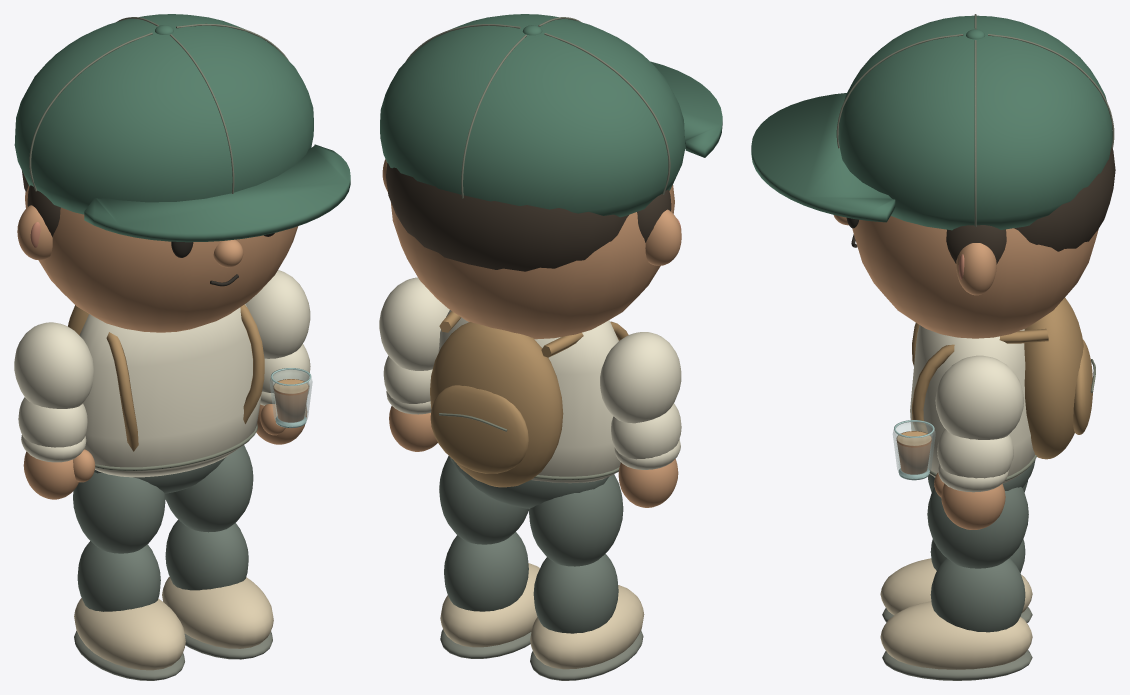
File: cafe-walker.glb
The picture shows the model from 3 angles, left to right: view 1: azimuth 30°, elevation 25°; view 2: azimuth 150°, elevation 25°; view 3: azimuth 270°, elevation 25°; orthographic projection. The views are drawn at different scales.
Parts seen in each view (by area): view 1: capCrown, softPullover, roundedHead, curvedCapVisor, leftThigh, leftShoe, rightShoe, leftUpperSleeve, leftShin, rightShin, rightThigh, rightUpperSleeve (+19 smaller); view 2: capCrown, roundedHead, backHair, canvasBackpack, softPullover, backpackPocket, leftUpperSleeve, leftThigh, rightShin, leftShin, rightUpperSleeve, leftShoe (+15 smaller); view 3: capCrown, roundedHead, curvedCapVisor, canvasBackpack, rightShoe, rightUpperSleeve, rightShin, softPullover, rightThigh, backHair, rightLowerSleeve, leftShoe (+10 smaller).
Boxes of the visible parts, x1,y1,x2,y2 form: capCrown: (14,14,313,214); softPullover: (79,304,261,477); roundedHead: (25,185,298,332); curvedCapVisor: (84,144,350,242); leftThigh: (73,472,165,553); leftShoe: (74,598,185,670); rightShoe: (162,576,273,648); leftUpperSleeve: (14,322,93,408); leftShin: (77,541,160,611); rightShin: (165,519,248,590); rightThigh: (165,445,253,532); rightUpperSleeve: (245,270,310,358); capCrown: (380,14,685,217); roundedHead: (391,185,674,339); backHair: (386,163,628,271); canvasBackpack: (430,322,563,487); softPullover: (438,310,620,483); backpackPocket: (430,385,528,473); leftUpperSleeve: (600,332,681,423); leftThigh: (529,474,623,566); rightShin: (444,532,528,611); leftShin: (533,554,618,633); rightUpperSleeve: (379,277,449,370); leftShoe: (530,585,644,669); capCrown: (838,15,1112,230); roundedHead: (852,216,1098,338); curvedCapVisor: (751,93,895,222); canvasBackpack: (1024,298,1083,459); rightShoe: (880,601,1032,669); rightUpperSleeve: (935,355,1024,439); rightShin: (930,558,1025,632); softPullover: (910,325,1034,483); rightThigh: (927,487,1028,568); backHair: (1014,147,1115,251); rightLowerSleeve: (937,429,1013,478); leftShoe: (880,558,1032,615).
Size of the model in its own units: 0.788 by 1.61 by 0.861.
